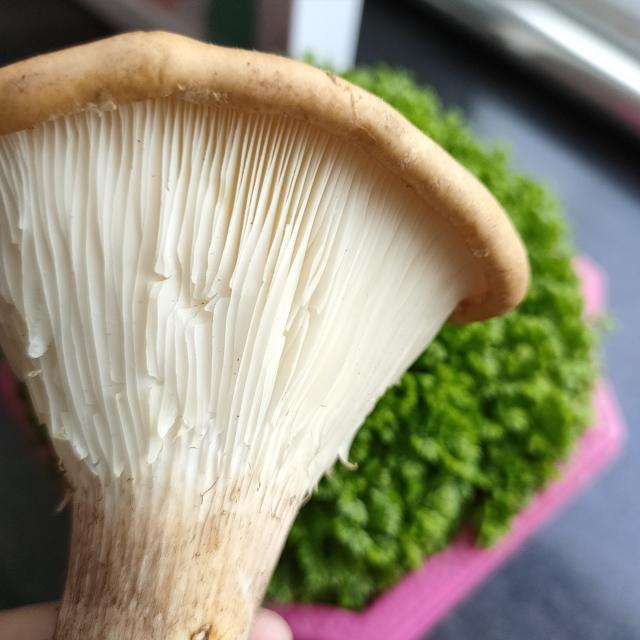Clitocybe maxima: (0, 31, 528, 640)
